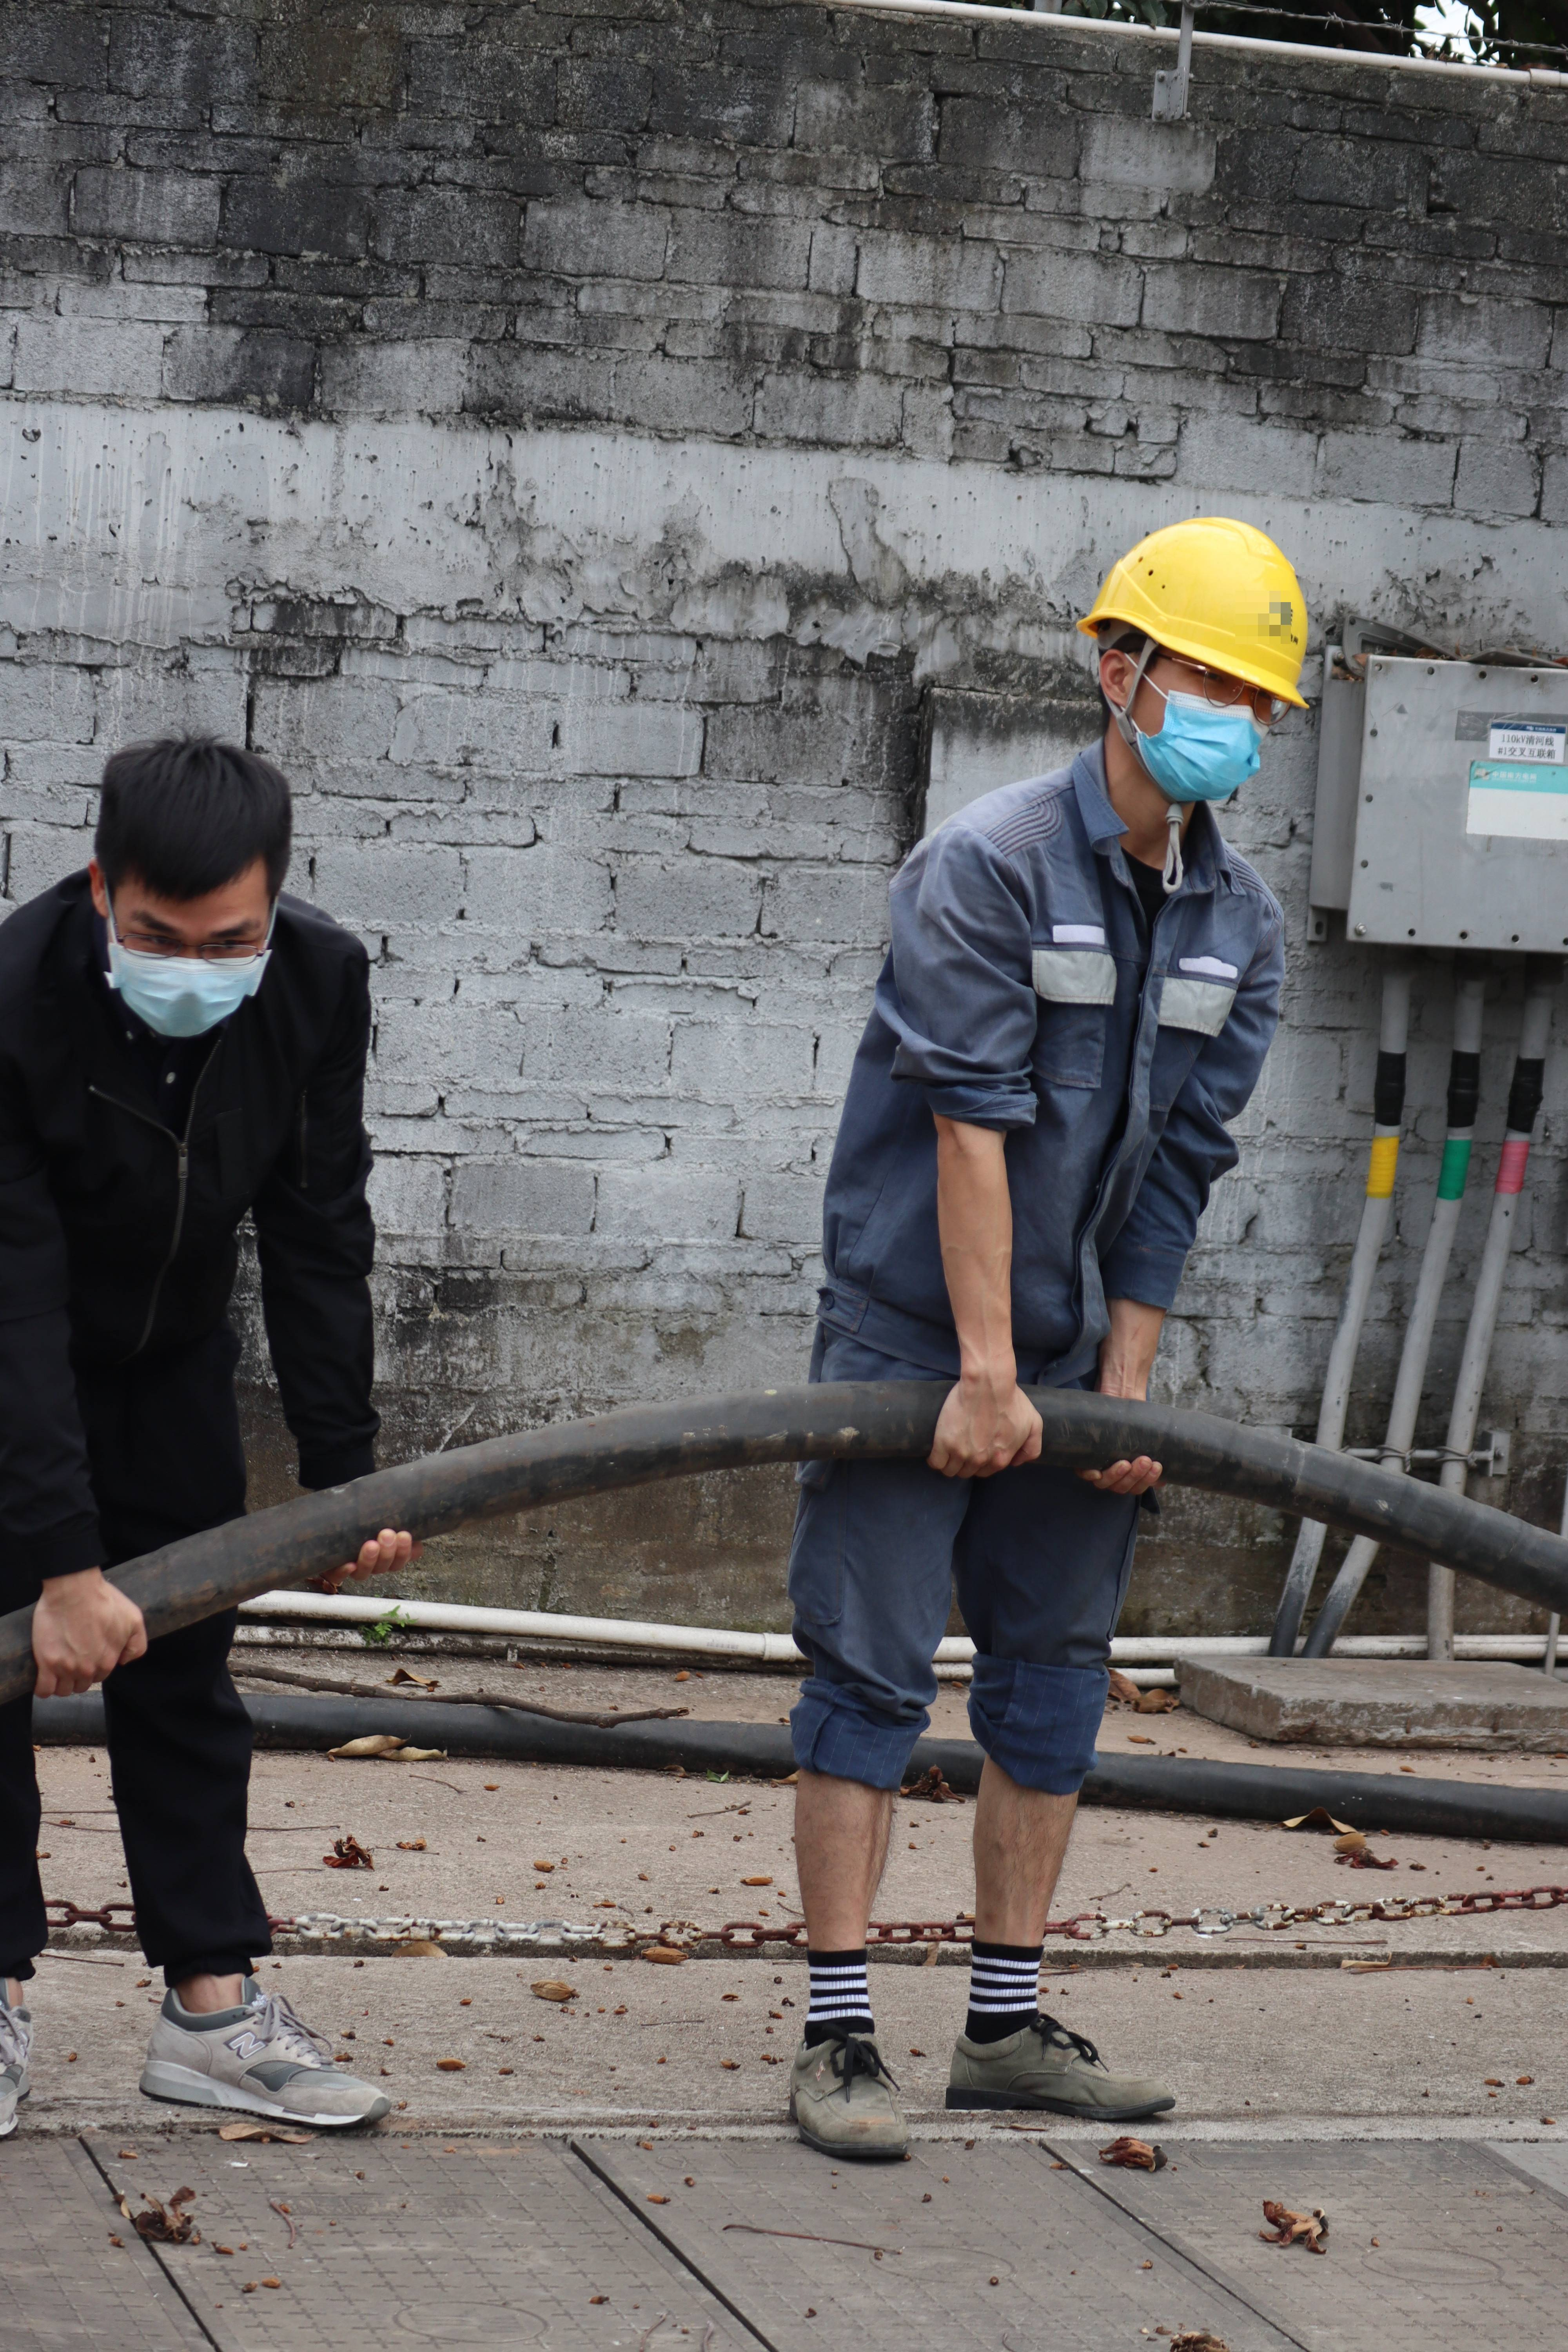downcloth: (4, 1388, 289, 1992)
downsuit: (775, 1382, 1151, 1797)
upcloth: (2, 891, 388, 1557)
upsuit: (807, 737, 1286, 1344)
wrongbottom: (761, 1717, 1096, 1986)
